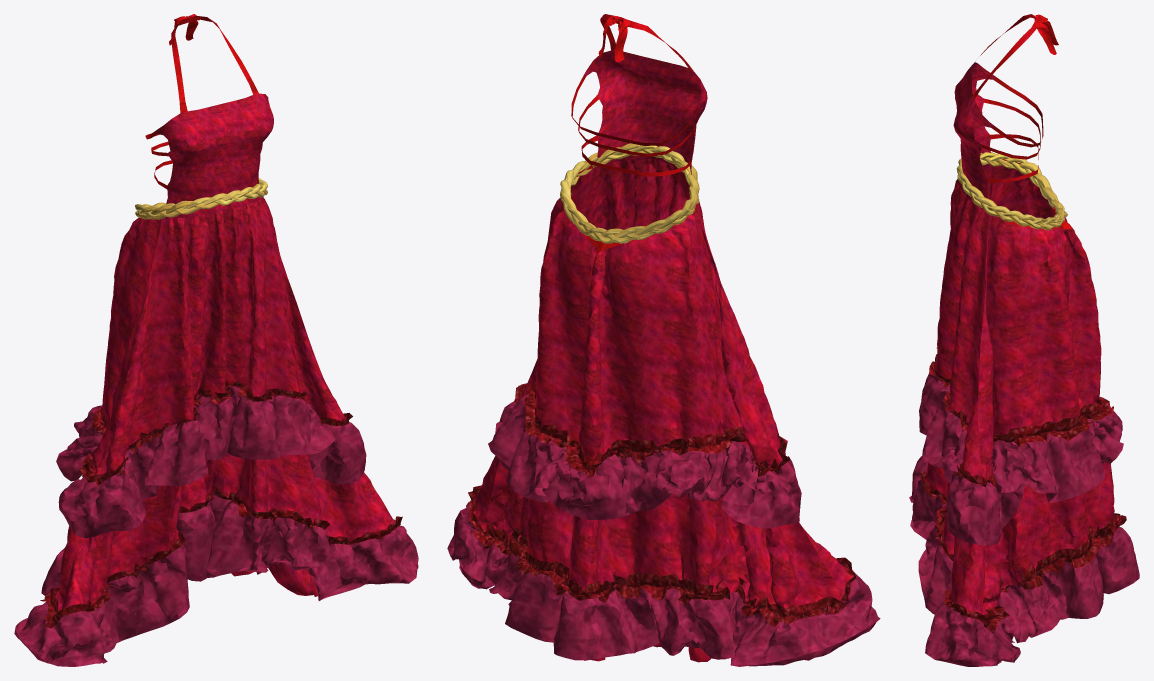
File: elvs-goddess-dress8.glb
The picture shows the model from 3 angles, left to right: view 1: azimuth 30°, elevation 25°; view 2: azimuth 150°, elevation 25°; view 3: azimuth 270°, elevation 25°; orthographic projection. The views are drawn at different scales.
Parts seen in each view (by area): view 1: goddess dress8; view 2: goddess dress8; view 3: goddess dress8.
Boxes of the visible parts, x1,y1,x2,y2 form: goddess dress8: (14,14,418,666); goddess dress8: (447,14,880,666); goddess dress8: (909,14,1139,666).
Size of the model in its own units: 98.33 by 143 by 51.92.
Materials: 1 (1 with a texture image).
